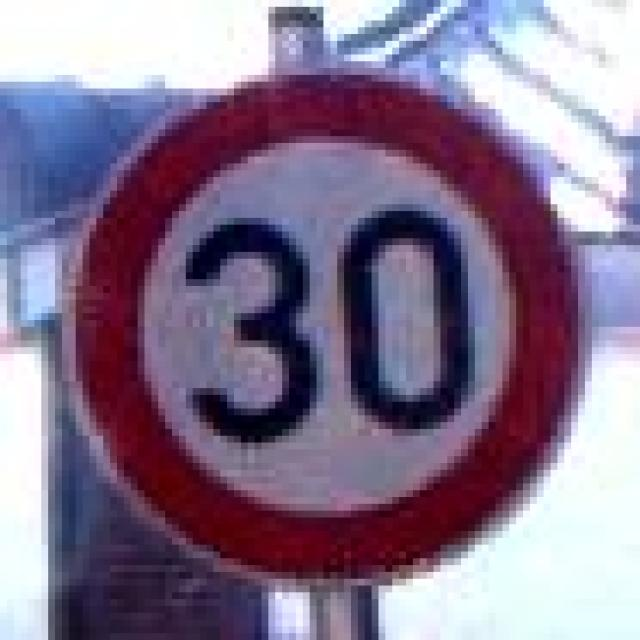speed limit 30: (70, 74, 580, 582)
